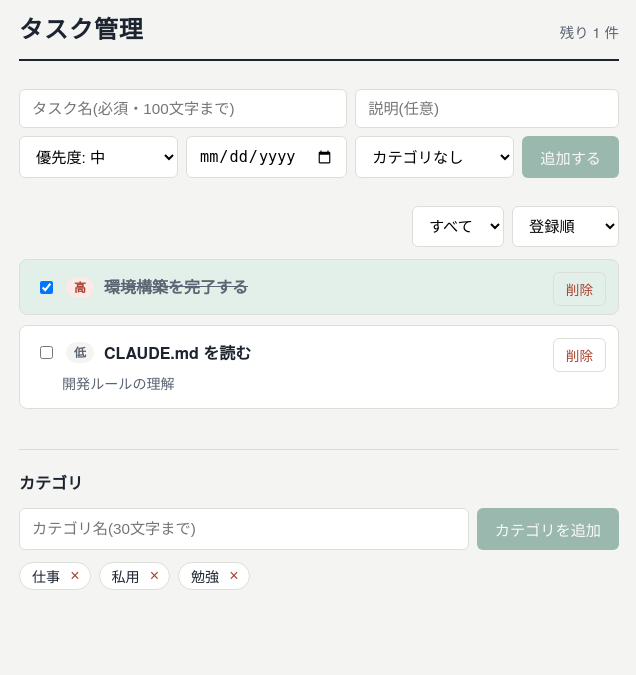
Test case: カテゴリ › 同じ名前のカテゴリを追加するとエラーメッセージが表示される
Type "仕事" into the field labelled "カテゴリ名" at (244, 529), box x1=19 y1=508 x2=469 y2=550
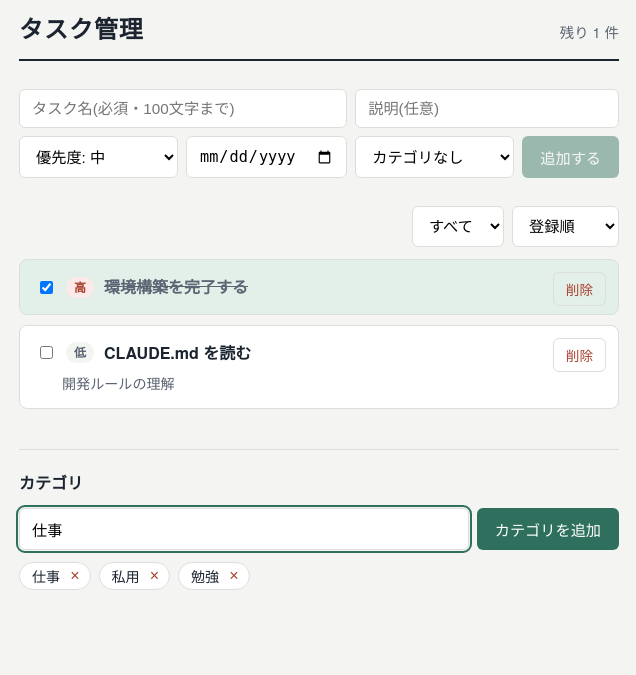
Click the button "カテゴリを追加" at (548, 529), box x1=477 y1=508 x2=619 y2=550
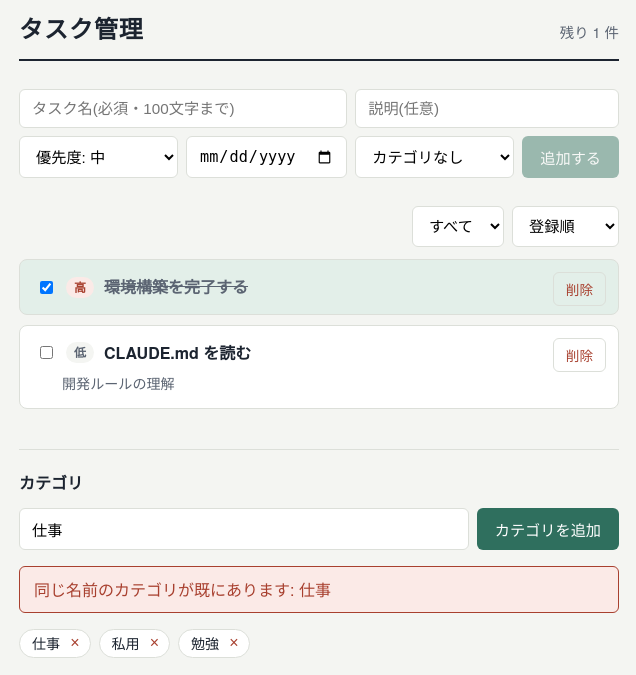
expect the text "同じ名前のカテゴリが既にあります: 仕事" is shown: met, box x1=19 y1=566 x2=619 y2=613
